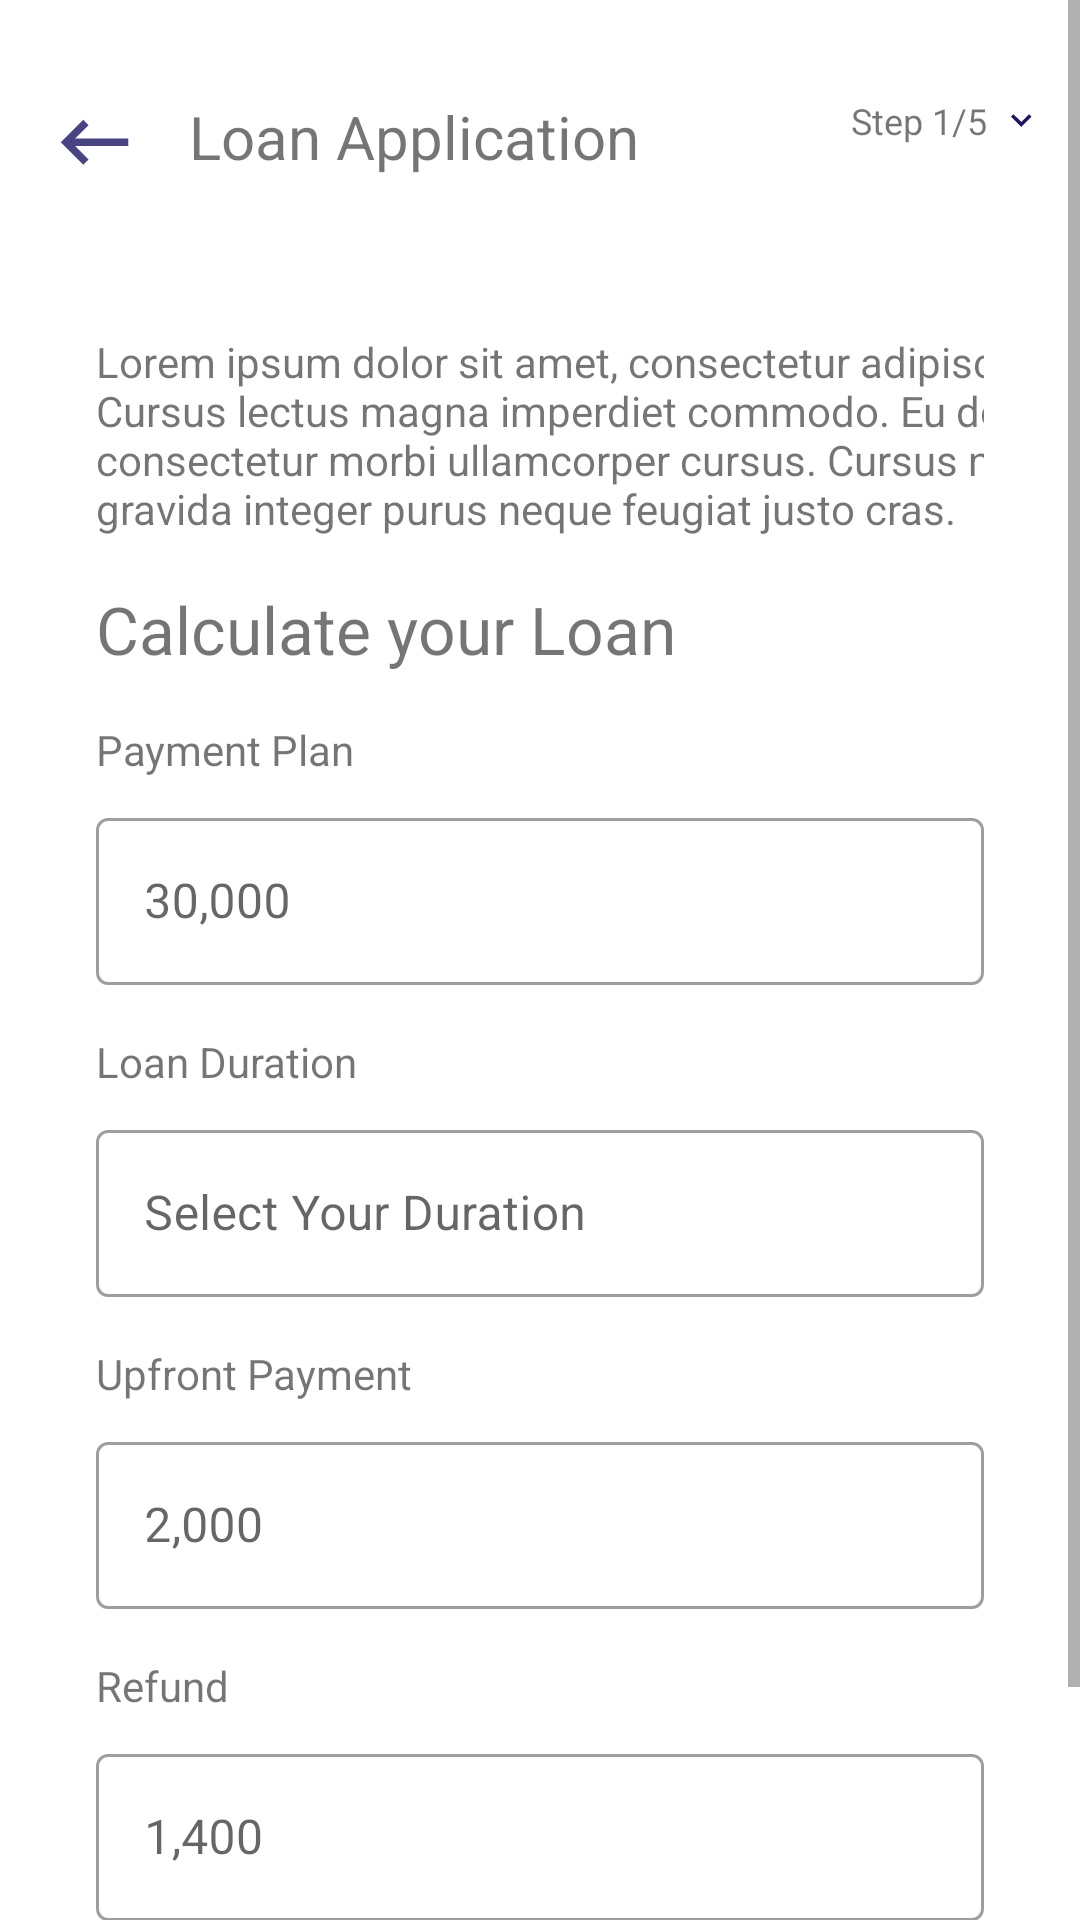

Screen size 1080*1920. Icon name, then its center in pixels as (x,y):
back: (95,142)
